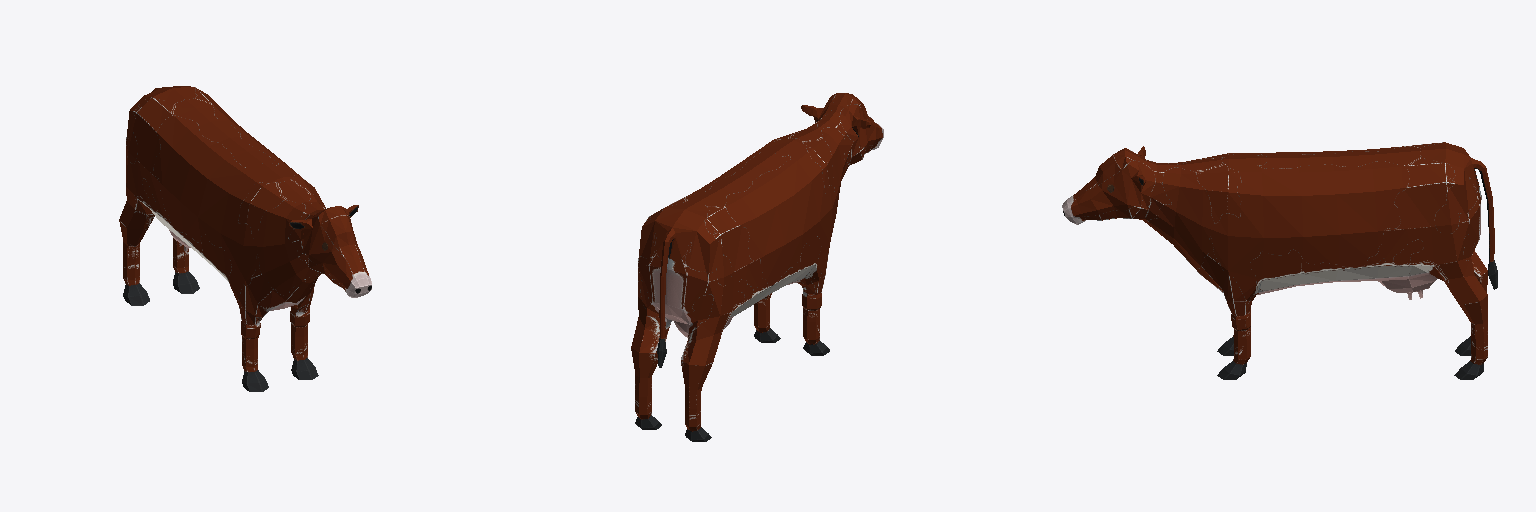
3 renders of one model, left to right at view 1: azimuth 30°, elevation 25°; view 2: azimuth 150°, elevation 25°; view 3: azimuth 270°, elevation 25°, orthographic.
Visible parts, largest first — view 1: Cow_mesh; view 2: Cow_mesh; view 3: Cow_mesh.
Part boxes in pixels (x1,y1,x2,y2): Cow_mesh: (119, 86, 371, 391); Cow_mesh: (631, 93, 883, 441); Cow_mesh: (1062, 142, 1497, 379).
Size of the model in its own units: 3.36 by 7.42 by 13.65.
1 materials, 1 textured.